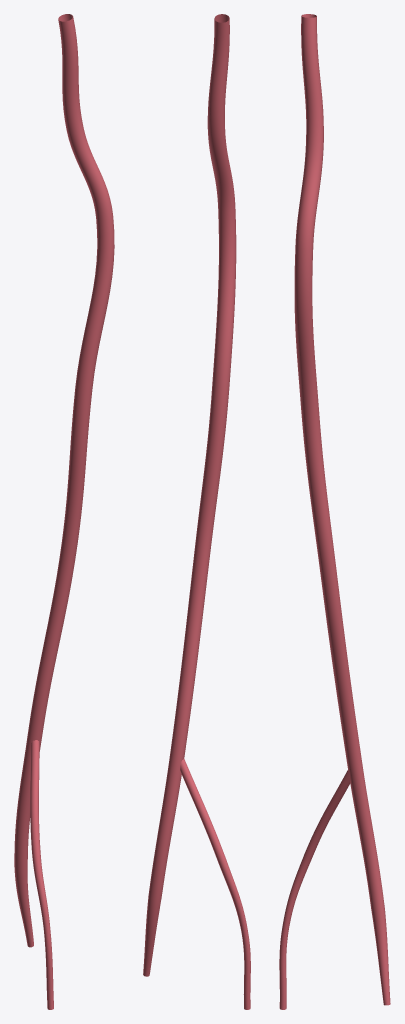
3 renders of one model, left to right at view 1: azimuth 90°, elevation 25°; view 2: azimuth 150°, elevation 25°; view 3: azimuth 330°, elevation 25°, orthographic. The views are drawn at different scales.
Visible parts, largest first — view 1: ZA_5f773d253d2ae213; view 2: ZA_5f773d253d2ae213; view 3: ZA_5f773d253d2ae213.
Part boxes in pixels (bbox=[...]): ZA_5f773d253d2ae213: bbox=[14, 14, 114, 1009]; ZA_5f773d253d2ae213: bbox=[143, 14, 250, 1009]; ZA_5f773d253d2ae213: bbox=[279, 14, 390, 1009].
Bounding box in the file's own units: 0.0169 × 0.1621 × 0.0151.
